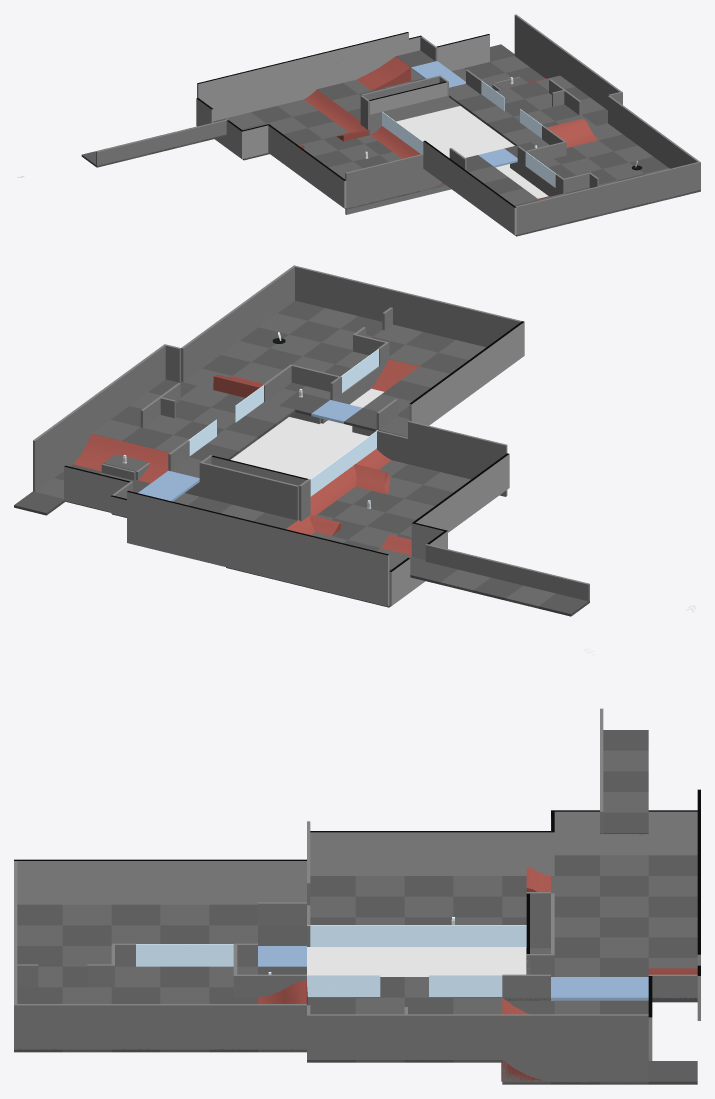
File: lvl2.fbx
3 renders of one model, top to bottom at view 1: azimuth 30°, elevation 25°; view 2: azimuth 150°, elevation 25°; view 3: azimuth 270°, elevation 25°, orthographic. The views are drawn at different scales.
Parts seen in each view (by area): view 1: Pool_Water_04, Prism__5_, Prism__6_, Prism__7_, Prism__3_, Floor_1_121, Pool_Water_04__1_, Floor_1_16, Floor_1_69, Floor_1_129, Wall_22, Wall_big_3 (+84 smaller); view 2: Pool_Water_04, Prism__8_, Prism__3_, Prism__4_, Prism__7_, Prism__2_, Floor_1_119, Floor_1_17, Floor_1_121, Floor_1_28, Floor_1_78, Floor_1_46 (+90 smaller); view 3: Pool_Water_04, Wall_53, Wall_57, Wall_54, Wall_52, Wall_56, Wall_big_9, Wall_big_31, Wall_big_54, Wall_big_68, Wall_big_73, Wall_big_79 (+110 smaller).
Boxes of the visible parts, bbox=[...] form: Pool_Water_04: bbox=[396, 106, 514, 169]; Prism__5_: bbox=[356, 56, 411, 90]; Prism__6_: bbox=[304, 89, 367, 133]; Prism__7_: bbox=[547, 118, 597, 147]; Prism__3_: bbox=[370, 126, 443, 184]; Floor_1_121: bbox=[478, 148, 517, 167]; Pool_Water_04__1_: bbox=[498, 166, 548, 198]; Floor_1_16: bbox=[411, 61, 451, 79]; Floor_1_69: bbox=[472, 106, 512, 124]; Floor_1_129: bbox=[487, 116, 526, 135]; Wall_22: bbox=[197, 77, 224, 97]; Wall_big_3: bbox=[345, 166, 372, 187]; Pool_Water_04: bbox=[231, 417, 368, 479]; Prism__8_: bbox=[73, 433, 169, 483]; Prism__3_: bbox=[310, 449, 391, 515]; Prism__4_: bbox=[354, 464, 390, 494]; Prism__7_: bbox=[213, 375, 263, 397]; Prism__2_: bbox=[371, 359, 418, 391]; Floor_1_119: bbox=[14, 491, 65, 515]; Floor_1_17: bbox=[538, 593, 589, 616]; Floor_1_121: bbox=[311, 400, 362, 423]; Floor_1_28: bbox=[150, 470, 199, 494]; Floor_1_78: bbox=[440, 569, 490, 592]; Floor_1_46: bbox=[473, 577, 522, 600]; Pool_Water_04: bbox=[307, 947, 526, 976]; Wall_53: bbox=[160, 859, 209, 883]; Wall_57: bbox=[62, 859, 111, 883]; Wall_54: bbox=[111, 859, 160, 883]; Wall_52: bbox=[258, 859, 306, 883]; Wall_56: bbox=[209, 859, 257, 883]; Wall_big_9: bbox=[404, 1014, 453, 1037]; Wall_big_31: bbox=[111, 1004, 160, 1027]; Wall_big_54: bbox=[453, 1014, 502, 1037]; Wall_big_68: bbox=[160, 1004, 209, 1027]; Wall_big_73: bbox=[355, 1014, 404, 1037]; Wall_big_79: bbox=[62, 1004, 111, 1027].
Bounding box in the file's own units: 55100 × 5606 × 39400.
